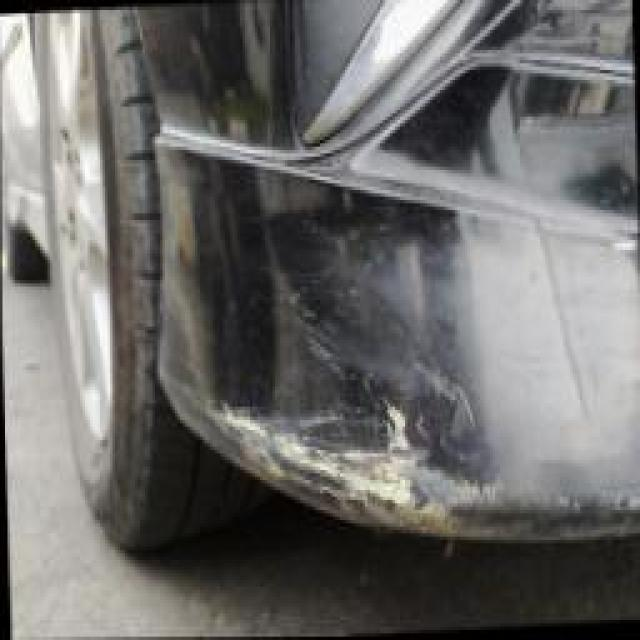Bumper: (156, 130, 585, 540)
